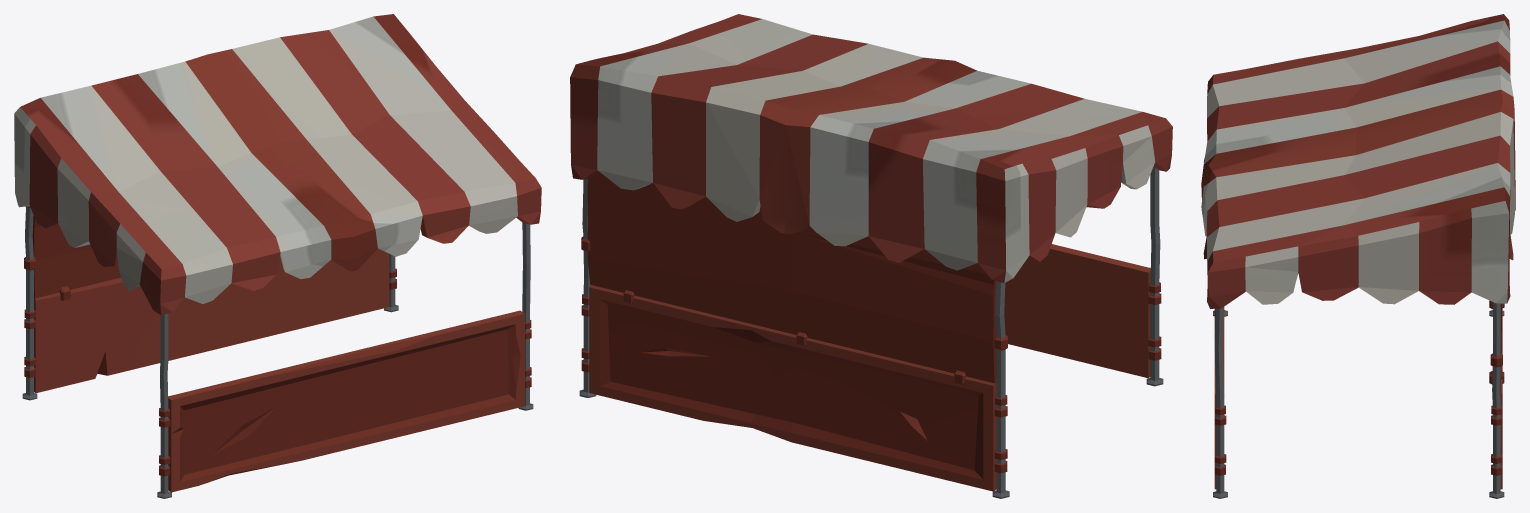
The model's file is stall-02.glb.
3 renders of one model, left to right at view 1: azimuth 30°, elevation 25°; view 2: azimuth 150°, elevation 25°; view 3: azimuth 270°, elevation 25°, orthographic. The views are drawn at different scales.
Visible parts, largest first — view 1: SM_Prop_Stall_02; view 2: SM_Prop_Stall_02; view 3: SM_Prop_Stall_02.
Part boxes in pixels (x1,y1,x2,y2): SM_Prop_Stall_02: (14, 14, 541, 498); SM_Prop_Stall_02: (570, 14, 1172, 498); SM_Prop_Stall_02: (1201, 14, 1515, 498).
Bounding box in the file's own units: 401 × 293 × 273.
Materials: 1 (1 with a texture image).
